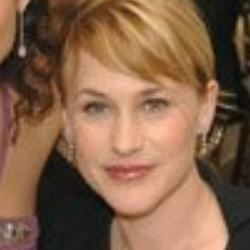face: (25, 1, 230, 218)
